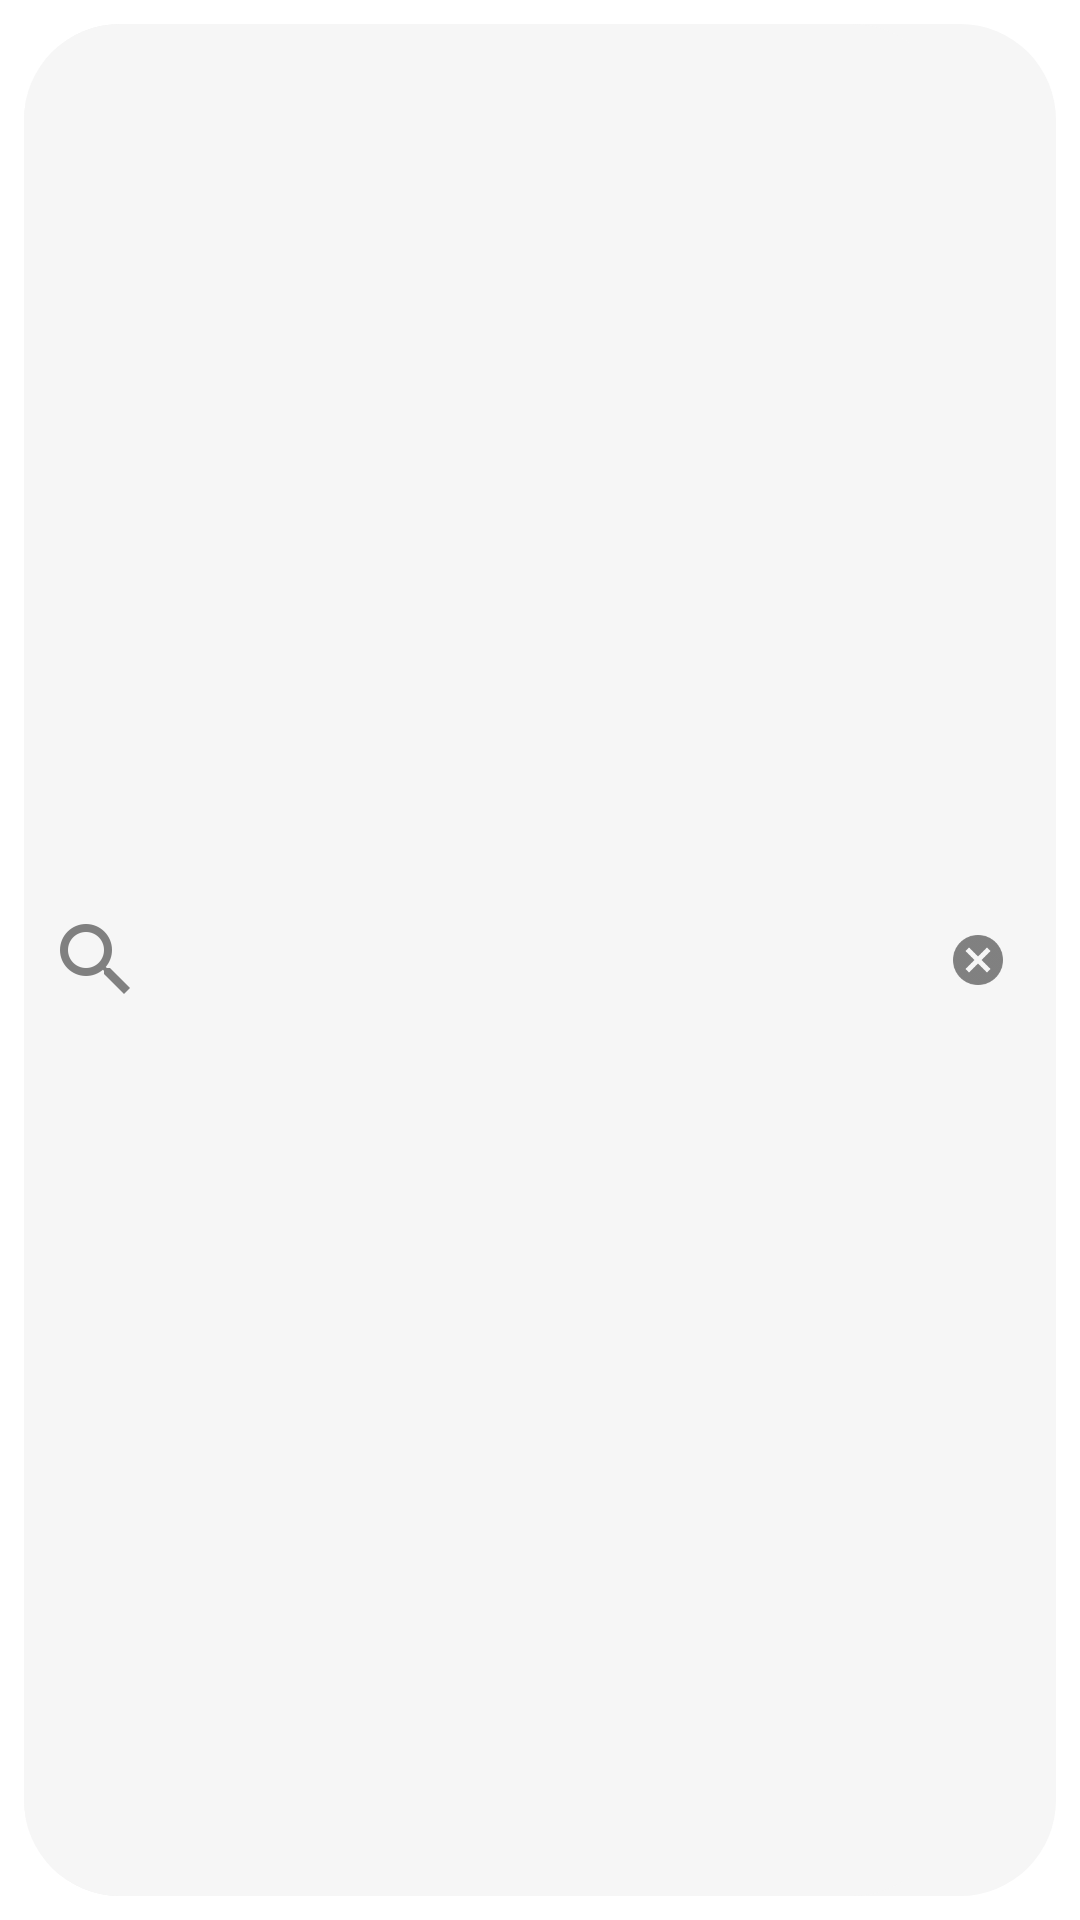

Icons on this 1080*1920 Android screen, each with the point to tap as [x,y]:
close: [978,960]
